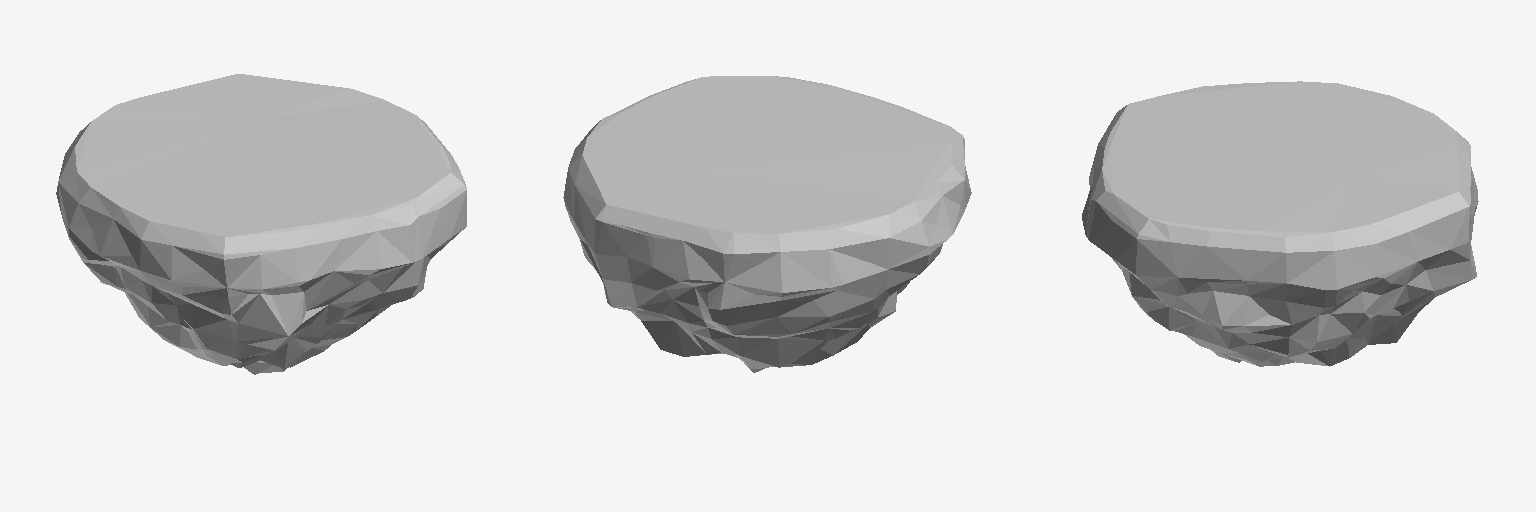
File: island.obj
3 renders of one model, left to right at view 1: azimuth 30°, elevation 25°; view 2: azimuth 150°, elevation 25°; view 3: azimuth 270°, elevation 25°, orthographic.
Parts seen in each view (by area): view 1: island.001; view 2: island.001; view 3: island.001.
Part boxes in pixels (x1,y1,x2,y2): island.001: (56,74,466,374); island.001: (563,76,971,372); island.001: (1082,81,1478,366).
Bounding box in the file's own units: 21.04 × 11.53 × 20.74.